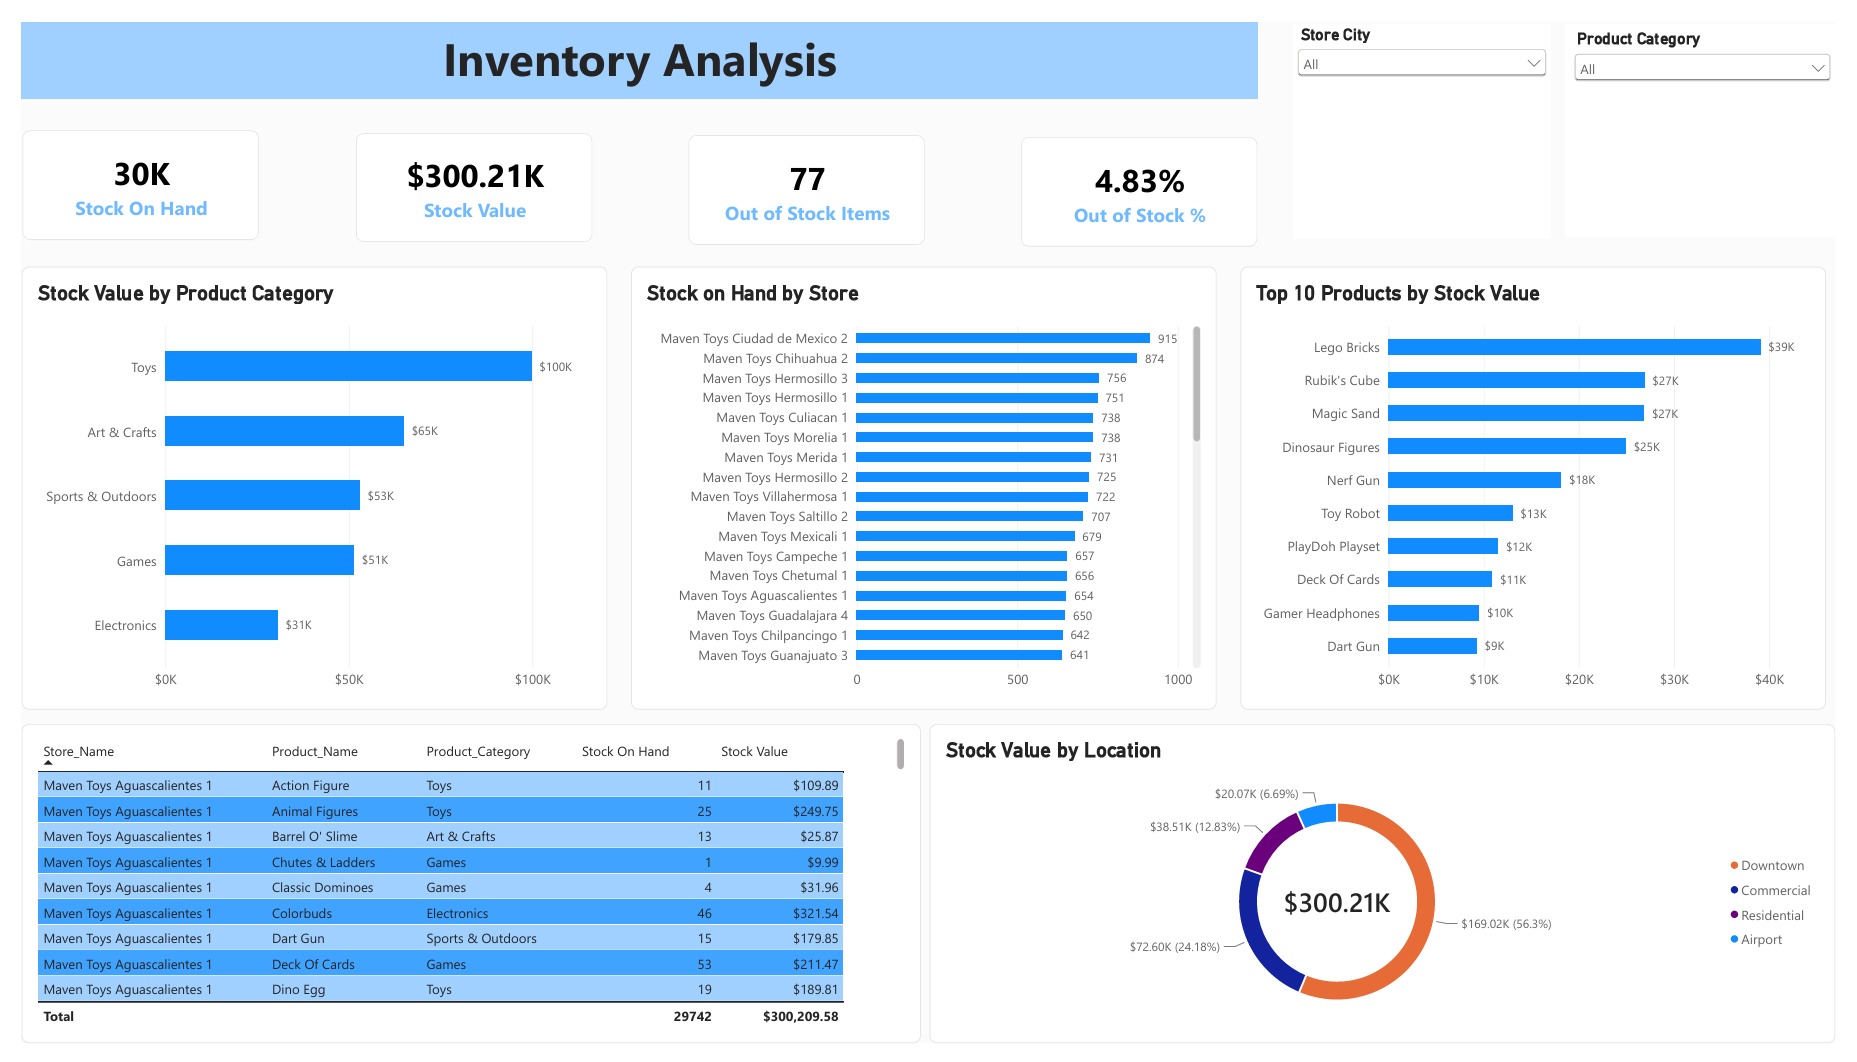

The page's visual inventory and layout, read from the dashboard file:
{"tool":"powerbi","page":{"name":"Inventory Analysis","canvas":[1920,1080],"ordinal":3},"visuals":[{"type":"cardVisual","fields":{"Data":["_Measures.Stock On Hand"]},"box":[1.4,114.3,250,115.7],"z":0},{"type":"cardVisual","fields":{"Data":["_Measures.Out of Stock %"]},"box":[1058.3,121.2,250,115.7],"z":1},{"type":"cardVisual","fields":{"Data":["_Measures.Out of Stock Items"]},"box":[706,118.9,250,115.7],"z":2},{"type":"cardVisual","fields":{"Data":["_Measures.Stock Value"]},"box":[353.7,116.6,250,115.7],"z":3},{"type":"clusteredBarChart","title":"Stock Value by Product Category","fields":{"Category":["products.Product_Category"],"Y":["_Measures.Stock Value"]},"box":[0,257.5,620,469.6],"z":4},{"type":"slicer","fields":{"Values":["products.Product_Category"]},"box":[1633.9,2.2,285.7,225.1],"z":5},{"type":"slicer","fields":{"Values":["stores.Store_City"]},"box":[1346.1,2.2,272.7,227.2],"z":7},{"type":"clusteredBarChart","title":"Stock on Hand by Store","fields":{"Category":["stores.Store_Name"],"Y":["_Measures.Stock On Hand"]},"box":[644.9,257.5,620,469.6],"z":8},{"type":"clusteredBarChart","title":"Top 10 Products by Stock Value","fields":{"Category":["products.Product_Name"],"Y":["_Measures.Stock Value"]},"box":[1289.8,257.5,620,469.6],"z":9},{"type":"donutChart","title":"Stock Value by Location","fields":{"Category":["stores.Store_Location"],"Y":["_Measures.Stock Value"]},"box":[960.9,742.3,958.7,337.6],"z":10},{"type":"tableEx","fields":{"Values":["stores.Store_Name","products.Product_Name","products.Product_Category","_Measures.Stock On Hand","_Measures.Stock Value"]},"box":[0,742.3,952.2,337.6],"z":11},{"type":"textbox","box":[0,0,1308.8,80.9],"z":12}]}

Visuals, with their boxes in screenshot pixels (x1, y1, x2, y2), scaled from the page's 1920x1080 canvas onto the 1857x1062 screenshot:
cardVisual - _Measures.Stock On Hand: Rect(1, 112, 243, 226)
cardVisual - _Measures.Out of Stock %: Rect(1024, 119, 1265, 233)
cardVisual - _Measures.Out of Stock Items: Rect(683, 117, 925, 231)
cardVisual - _Measures.Stock Value: Rect(342, 115, 584, 228)
"Stock Value by Product Category" clusteredBarChart: Rect(0, 253, 600, 715)
slicer - products.Product_Category: Rect(1580, 2, 1856, 224)
slicer - stores.Store_City: Rect(1302, 2, 1566, 226)
"Stock on Hand by Store" clusteredBarChart: Rect(624, 253, 1223, 715)
"Top 10 Products by Stock Value" clusteredBarChart: Rect(1247, 253, 1847, 715)
"Stock Value by Location" donutChart: Rect(929, 730, 1856, 1061)
tableEx - stores.Store_Name x products.Product_Name: Rect(0, 730, 921, 1061)
textbox: Rect(0, 0, 1266, 80)
